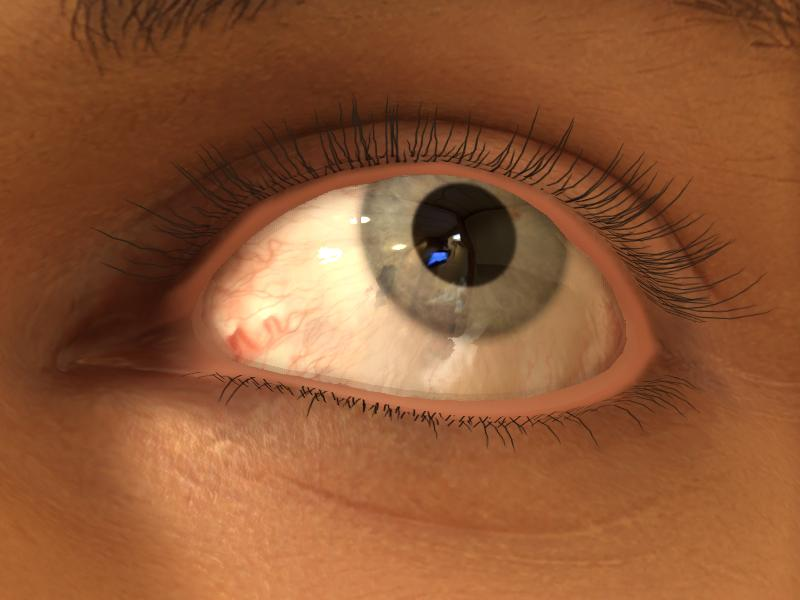eye: (359, 169, 573, 338)
